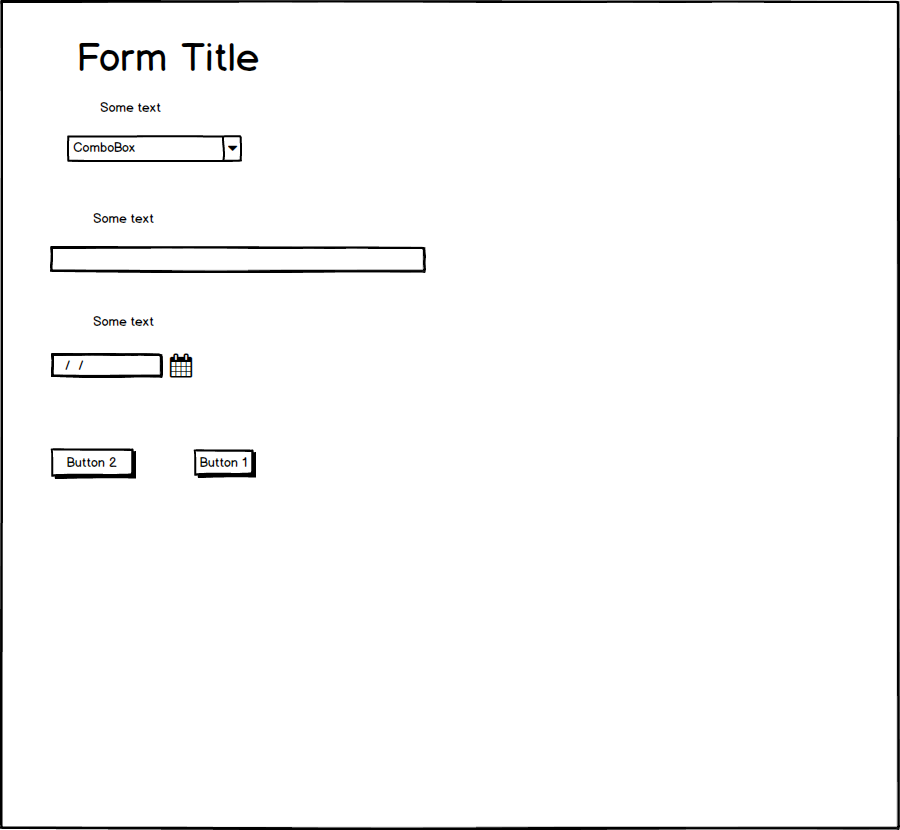button: (46, 444, 144, 483), (190, 447, 264, 482)
date_picker: (46, 348, 201, 387)
h1: (71, 35, 265, 80)
input: (45, 240, 431, 277)
label: (90, 95, 171, 120), (88, 204, 159, 230), (87, 307, 163, 331)
select_box: (61, 133, 247, 168)
